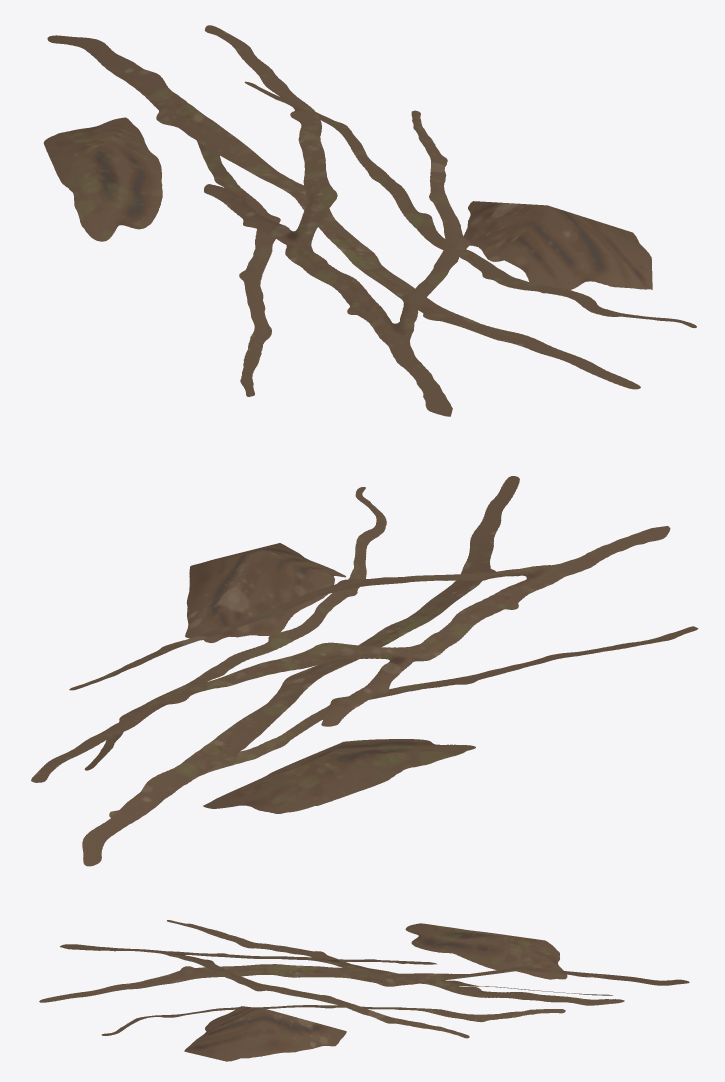
File: MSH_fwOF_WoodDebris_05.fbx
The picture shows the model from 3 angles, top to bottom: view 1: azimuth 30°, elevation 25°; view 2: azimuth 150°, elevation 25°; view 3: azimuth 270°, elevation 25°; orthographic projection. The views are drawn at different scales.
Parts seen in each view (by area): view 1: MSH_fwOF_WoodDebris_05; view 2: MSH_fwOF_WoodDebris_05; view 3: MSH_fwOF_WoodDebris_05.
Part boxes in pixels (x1,y1,x2,y2): MSH_fwOF_WoodDebris_05: (43, 25, 696, 416); MSH_fwOF_WoodDebris_05: (31, 476, 698, 866); MSH_fwOF_WoodDebris_05: (39, 920, 689, 1061).
Bounding box in the file's own units: 0.2811 × 0.0305 × 0.5551.
